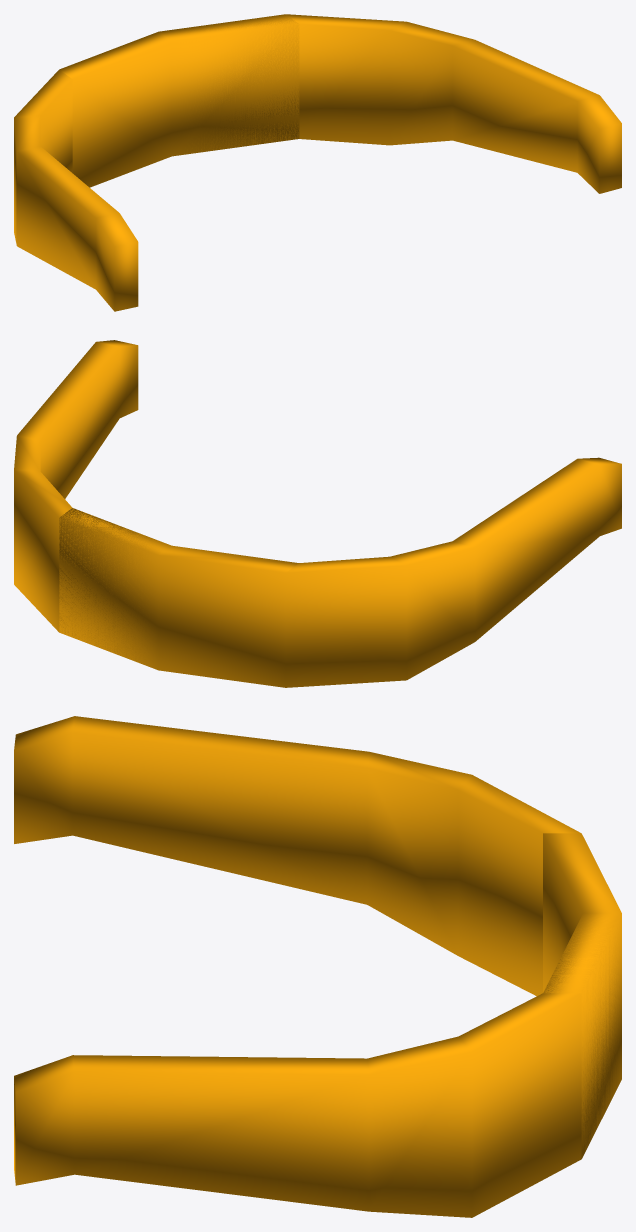
File: WorldItem_AuthenticHeadband.fbx
The picture shows the model from 3 angles, top to bottom: view 1: azimuth 30°, elevation 25°; view 2: azimuth 150°, elevation 25°; view 3: azimuth 270°, elevation 25°; orthographic projection. The views are drawn at different scales.
Parts seen in each view (by area): view 1: Cube; view 2: Cube; view 3: Cube.
Boxes of the visible parts, x1,y1,x2,y2 form: Cube: (14, 14, 621, 311); Cube: (14, 340, 621, 687); Cube: (14, 716, 621, 1217).
Bounding box in the file's own units: 0.1192 × 0.0288 × 0.0856.
